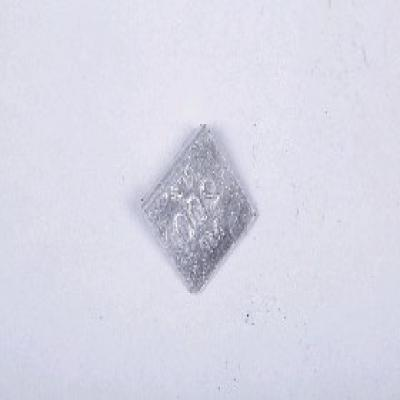technique: (139, 126, 259, 295)
